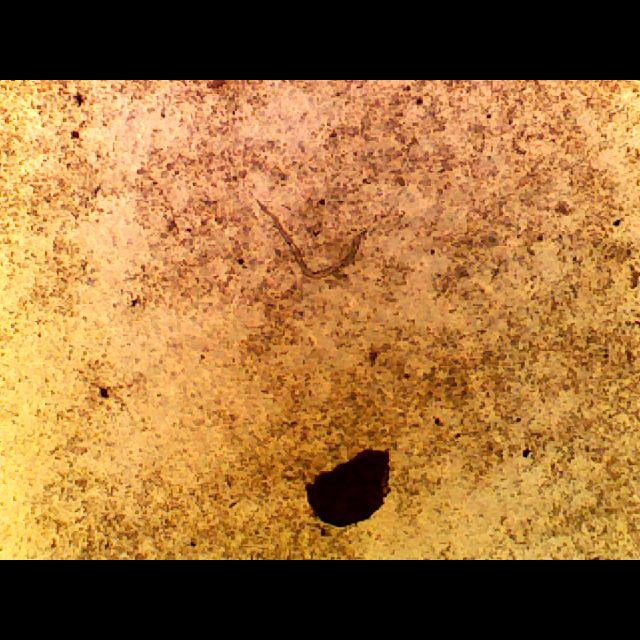Fragment: (294, 444, 404, 528)
